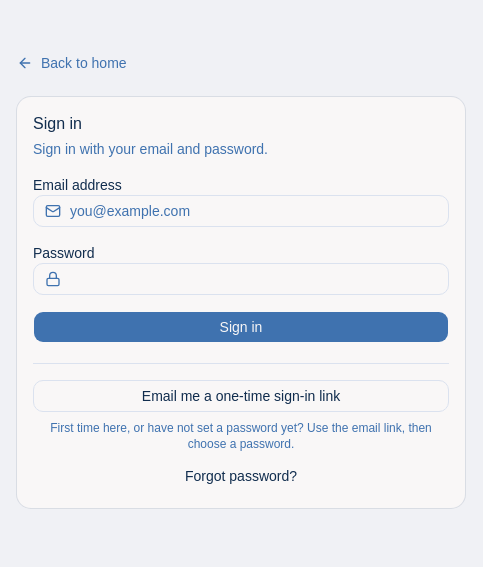
Test case: Login: password sign-in › shows a safe message for {"code":"email_not_confirmed","status":400}
Type "person@example.test" into the field labelled "Email address" at (241, 210), box [33,194,449,226]
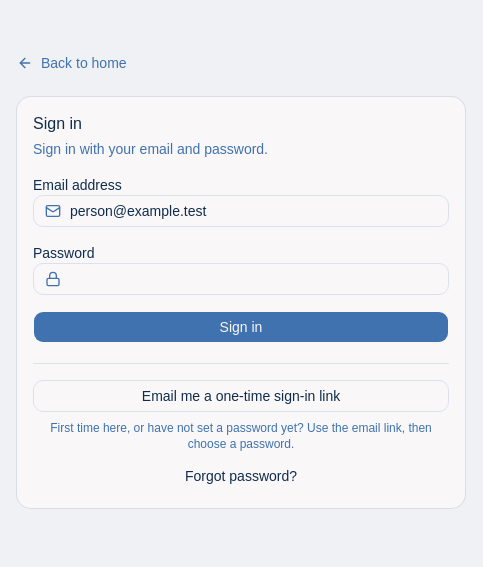
Type "wrong password" into the password field labelled "Password" at (241, 278), box [33,262,449,294]
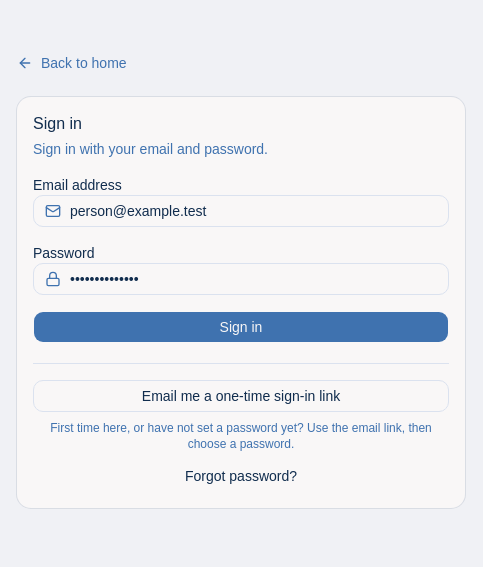
Click the button "Sign in" at (241, 326), box [33,310,449,342]
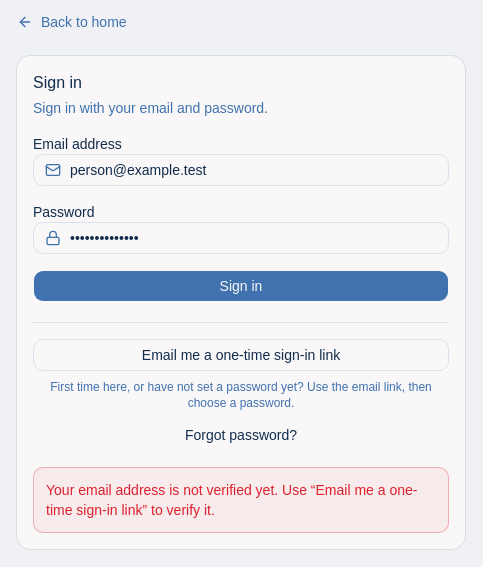
Expected: the message shows "not verified yet", [46,482,417,518]
